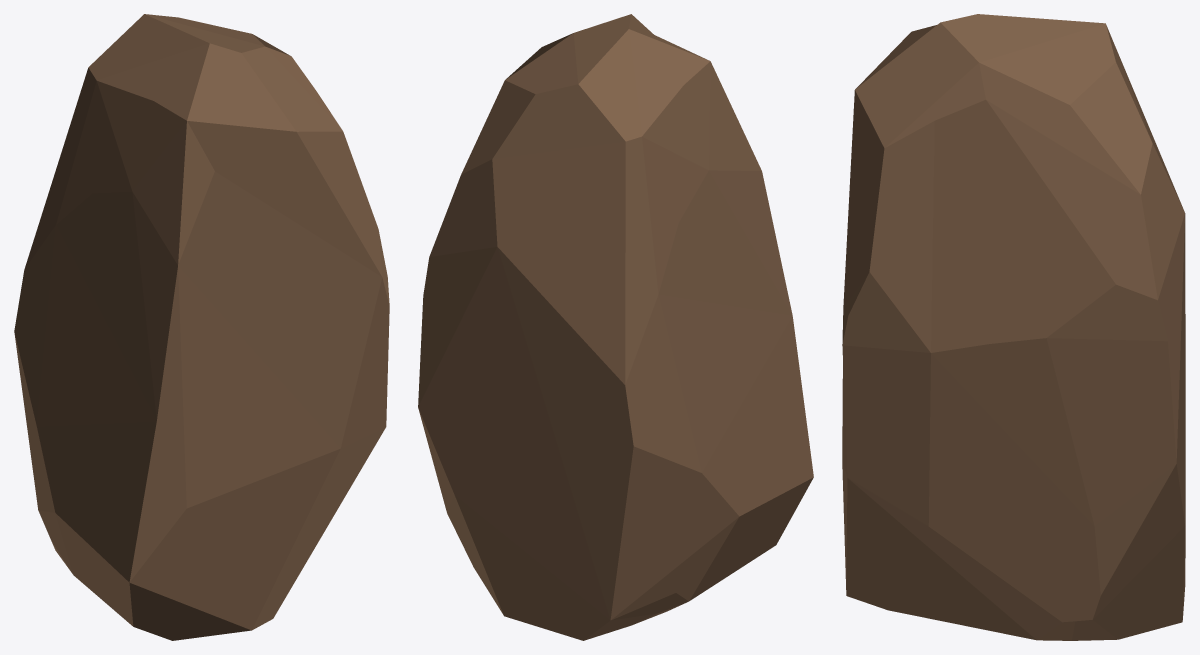
File: SM_rock01_low.fbx
The picture shows the model from 3 angles, left to right: view 1: azimuth 30°, elevation 25°; view 2: azimuth 150°, elevation 25°; view 3: azimuth 270°, elevation 25°; orthographic projection. The views are drawn at different scales.
Parts seen in each view (by area): view 1: rock_low; view 2: rock_low; view 3: rock_low.
Boxes of the visible parts, left/top/right/bottom form: rock_low: left=14, top=14, right=389, bottom=640; rock_low: left=418, top=14, right=813, bottom=640; rock_low: left=842, top=14, right=1185, bottom=640.
Size of the model in its own units: 133 by 261 by 135.
